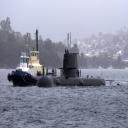submarine: (35, 50, 116, 87)
